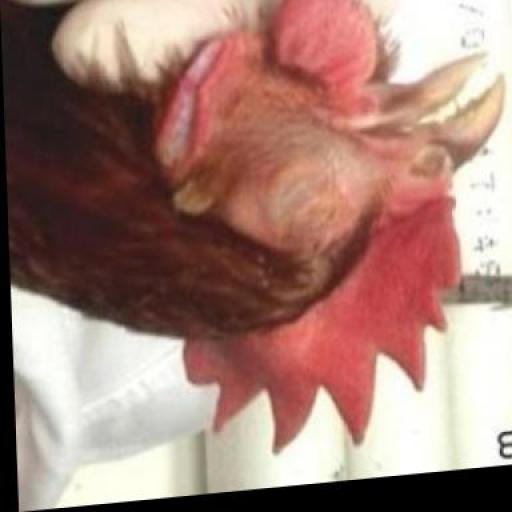disease: (165, 12, 429, 294)
